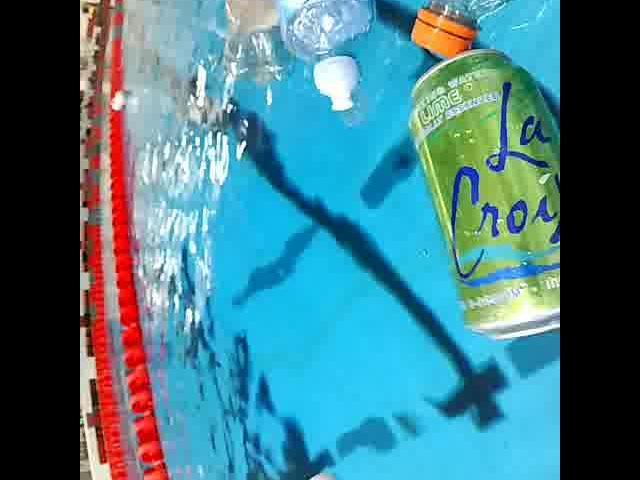Bottle: (263, 0, 383, 124), (405, 0, 555, 63), (220, 0, 284, 91)
Can: (404, 45, 560, 345)
